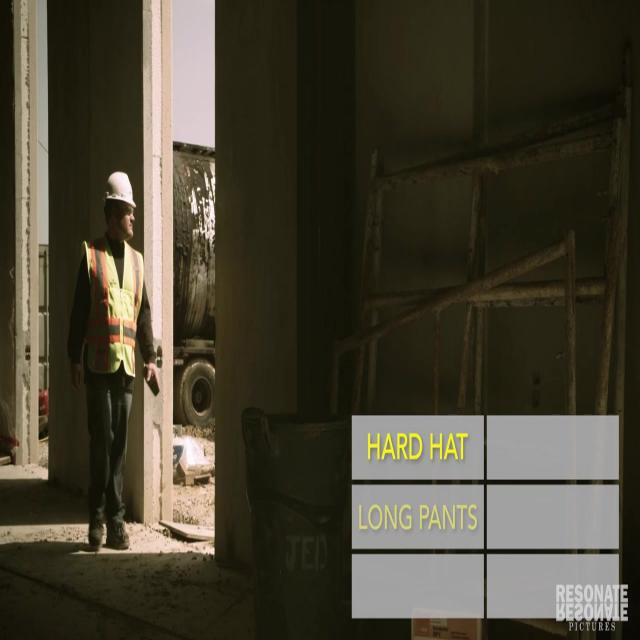Reflective-Jacket: (66, 237, 156, 393)
Safety-Helmet: (96, 159, 142, 223)
